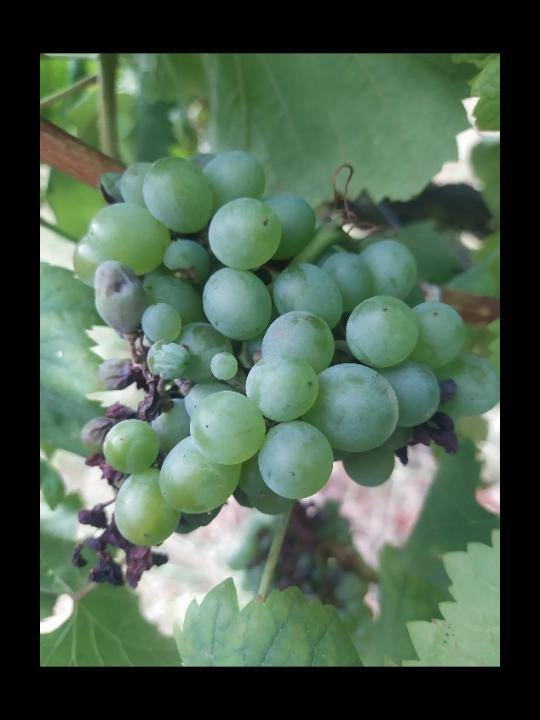grape: (69, 148, 500, 593)
